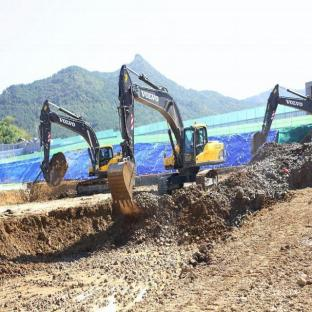ExcavationMachinery: (116, 61, 229, 217), (21, 64, 122, 212), (247, 60, 312, 197)
